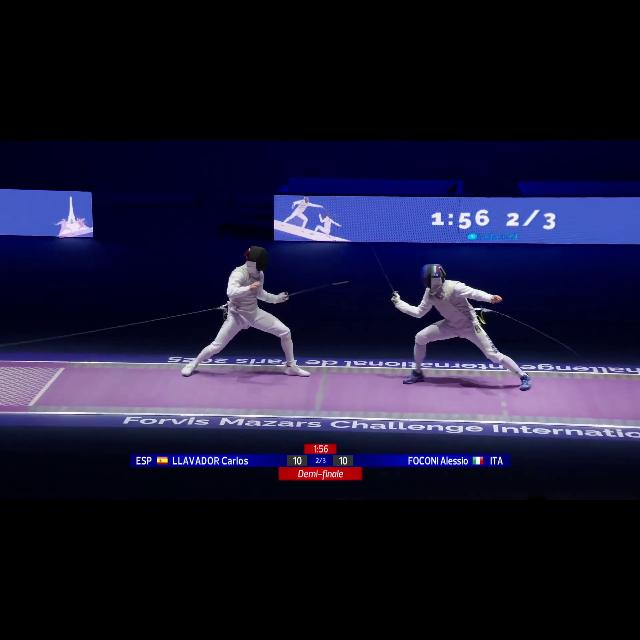blade: (276, 280, 350, 302), (372, 252, 402, 298)
